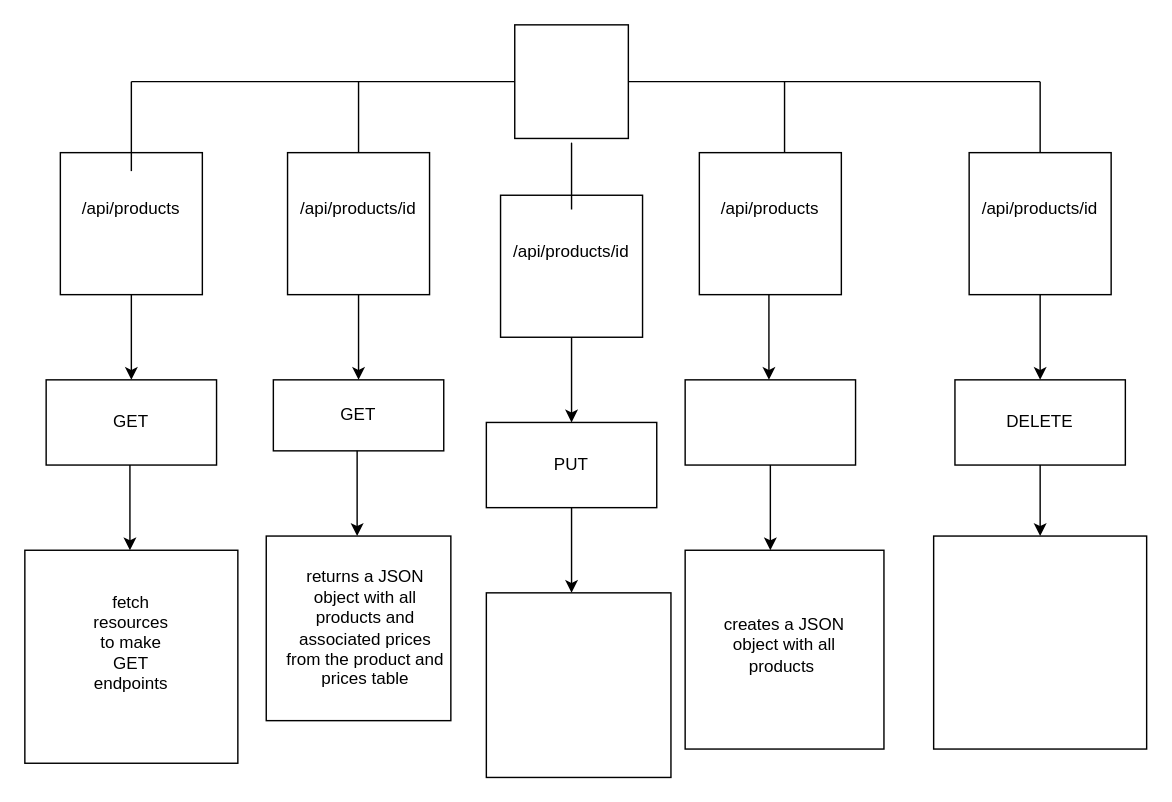
Image size: 1172x802. Some labels were removed from this diagram. Here are the shapes that lost their labels. From the top down, the box of each, then its label:
(513, 23, 628, 138): Server
(684, 378, 856, 465): POST
(932, 535, 1147, 749): deletes a JSON object with all products
(485, 591, 671, 777): updates a JSON object with all products
